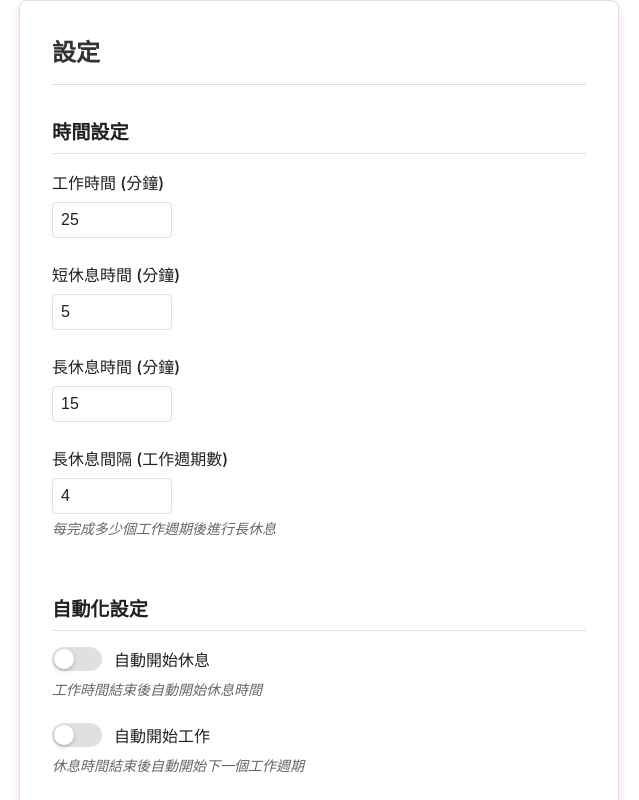
Test case: SettingsPanel › Time Settings › should show error for invalid short break duration
This screenshot has width=639, height=800.
Replace the text in the number field labelled "短休息時間 (分鐘)" with "70" at (112, 312), box [52, 294, 172, 330]
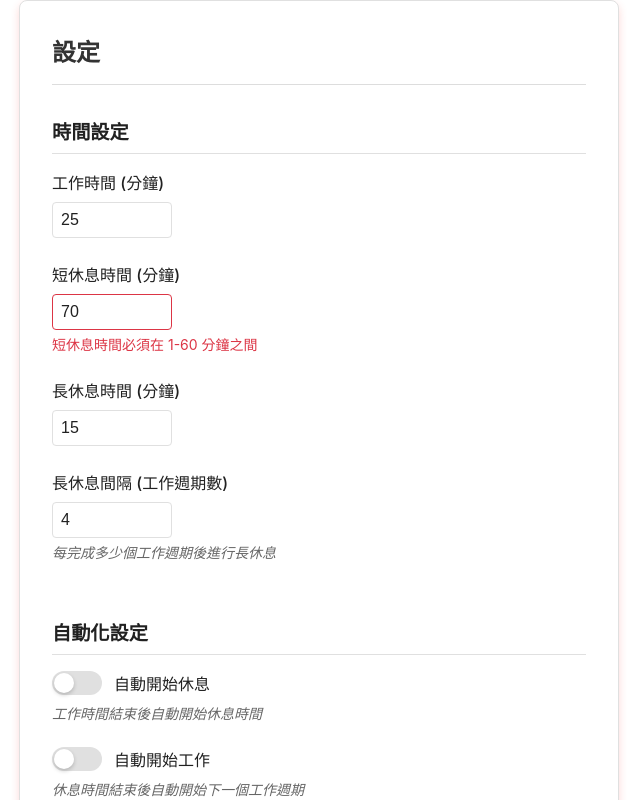
Check: the text "短休息時間必須在 1-60 分鐘之間" is shown, box [52, 336, 258, 353]
